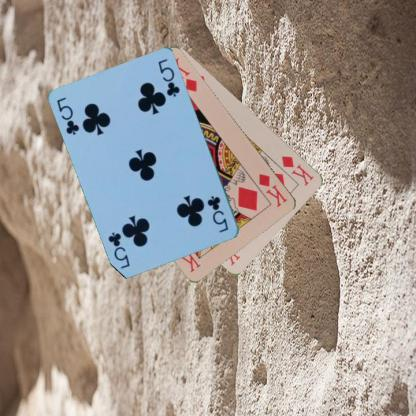5c: (54, 95, 81, 136), (204, 193, 230, 234)
Kd: (279, 153, 316, 187), (256, 170, 289, 208)
